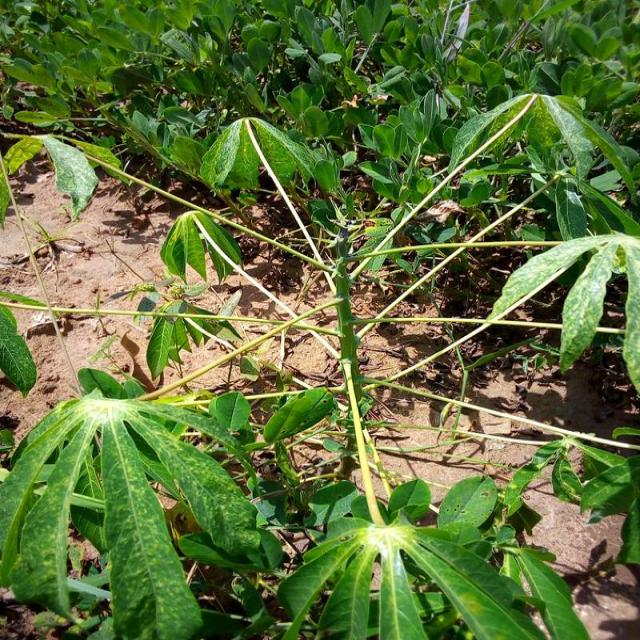cassava leaf: (0, 366, 272, 638), (198, 115, 317, 195)
